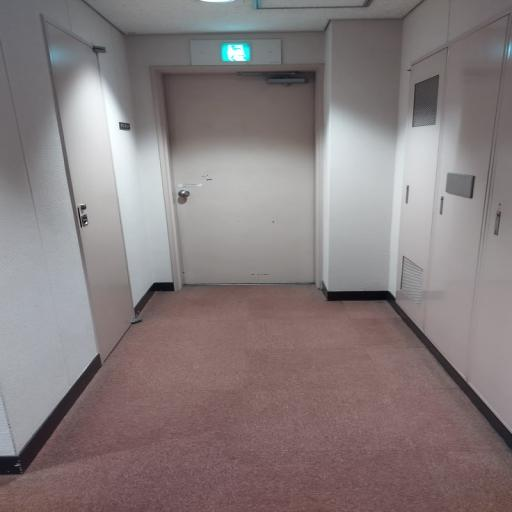car: (0, 0, 512, 512)
child: (165, 74, 314, 284)
